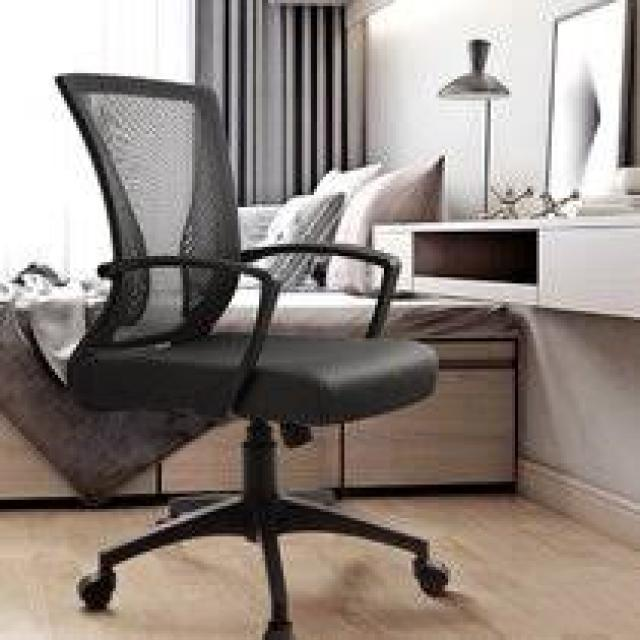chair: (10, 20, 476, 640)
